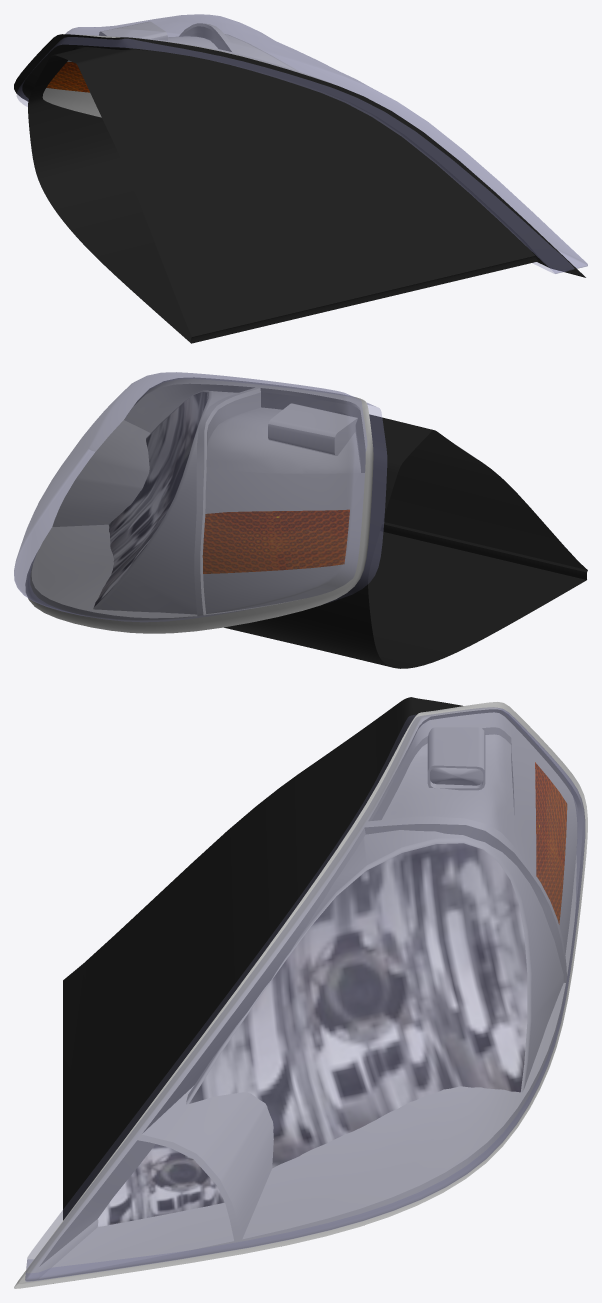
The picture shows the model from 3 angles, top to bottom: view 1: azimuth 30°, elevation 25°; view 2: azimuth 150°, elevation 25°; view 3: azimuth 270°, elevation 25°; orthographic projection. The views are drawn at different scales.
Parts seen in each view (by area): view 1: Z020_061B_L_Z020_061B_L_4_D, Z020_061B_L_Z020_061B_L_6_DTaSI, Z020_061B_L_Z020_061B_L_3_DaS, Z020_061B_L_Z020_061B_L_5_N; view 2: Z020_061B_L_Z020_061B_L_6_DTaSI, Z020_061B_L_Z020_061B_L_3_DaS, Z020_061B_L_Z020_061B_L_4_D, Z020_061B_L_Z020_061B_L_5_N, Z020_061B_L_1_N_Z020_061B_L; view 3: Z020_061B_L_Z020_061B_L_6_DTaSI, Z020_061B_L_Z020_061B_L_3_DaS, Z020_061B_L_1_N_Z020_061B_L, Z020_061B_L_Z020_061B_L_4_D, Z020_061B_L_Z020_061B_L_2_N, Z020_061B_L_Z020_061B_L_5_N.
Boxes of the visible parts, box(x1,y1,x2,y2) form: Z020_061B_L_Z020_061B_L_4_D: box(14, 34, 585, 343); Z020_061B_L_Z020_061B_L_6_DTaSI: box(17, 14, 587, 273); Z020_061B_L_Z020_061B_L_3_DaS: box(42, 21, 334, 117); Z020_061B_L_Z020_061B_L_5_N: box(46, 62, 89, 92); Z020_061B_L_Z020_061B_L_6_DTaSI: box(14, 372, 386, 621); Z020_061B_L_Z020_061B_L_3_DaS: box(25, 377, 373, 633); Z020_061B_L_Z020_061B_L_4_D: box(224, 414, 587, 668); Z020_061B_L_Z020_061B_L_5_N: box(202, 509, 349, 573); Z020_061B_L_1_N_Z020_061B_L: box(94, 392, 208, 606); Z020_061B_L_Z020_061B_L_6_DTaSI: box(25, 707, 585, 1281); Z020_061B_L_Z020_061B_L_3_DaS: box(14, 702, 587, 1288); Z020_061B_L_1_N_Z020_061B_L: box(189, 843, 527, 1167); Z020_061B_L_Z020_061B_L_4_D: box(63, 697, 462, 1220); Z020_061B_L_Z020_061B_L_2_N: box(98, 1144, 224, 1226); Z020_061B_L_Z020_061B_L_5_N: box(535, 762, 567, 924).
Size of the model in its own units: 53.78 by 29.52 by 45.33.
